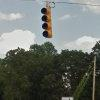Traffic light: (36, 5, 64, 44)
